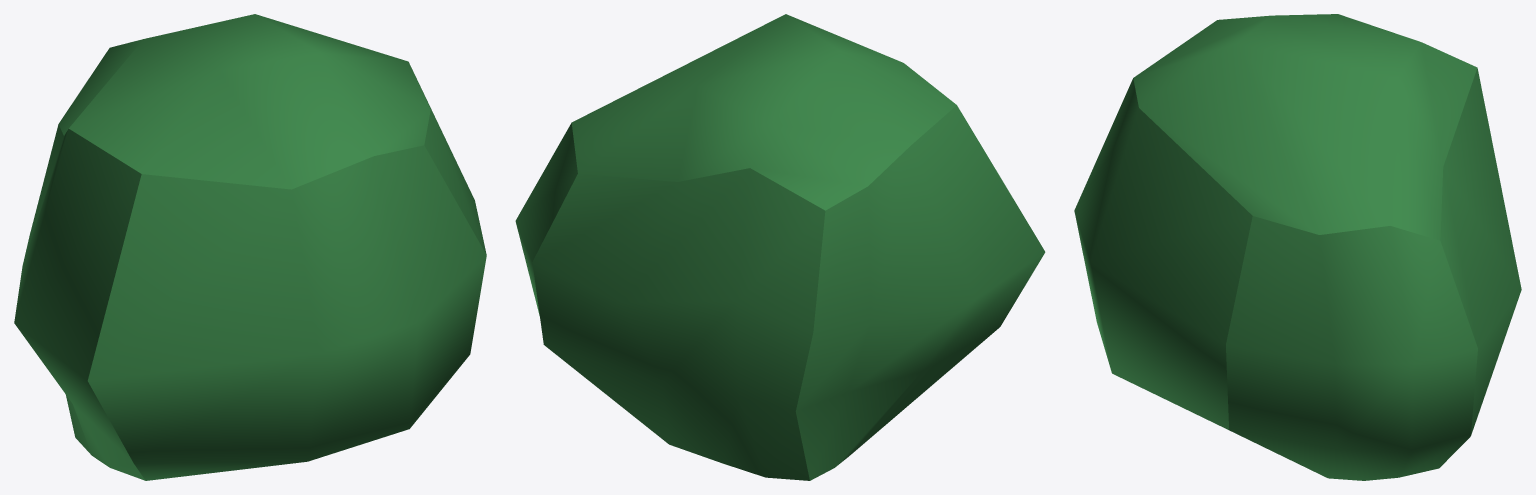
File: Buisson_01.fbx
3 views of the same model, side by side, from view 1: azimuth 30°, elevation 25°; view 2: azimuth 150°, elevation 25°; view 3: azimuth 270°, elevation 25° (orthographic). The views are drawn at different scales.
Parts seen in each view (by area): view 1: buisson2; view 2: buisson2; view 3: buisson2.
Boxes of the visible parts, <box> form: buisson2: <box>14,14,486,480</box>; buisson2: <box>515,14,1045,480</box>; buisson2: <box>1074,14,1521,480</box>.
Bounding box in the file's own units: 19.89 × 16.72 × 16.5.
